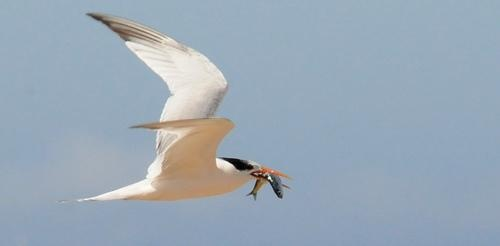bird: (54, 13, 293, 212)
